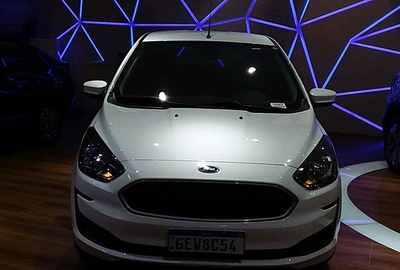Frontal Veiculo: (71, 33, 342, 270)
